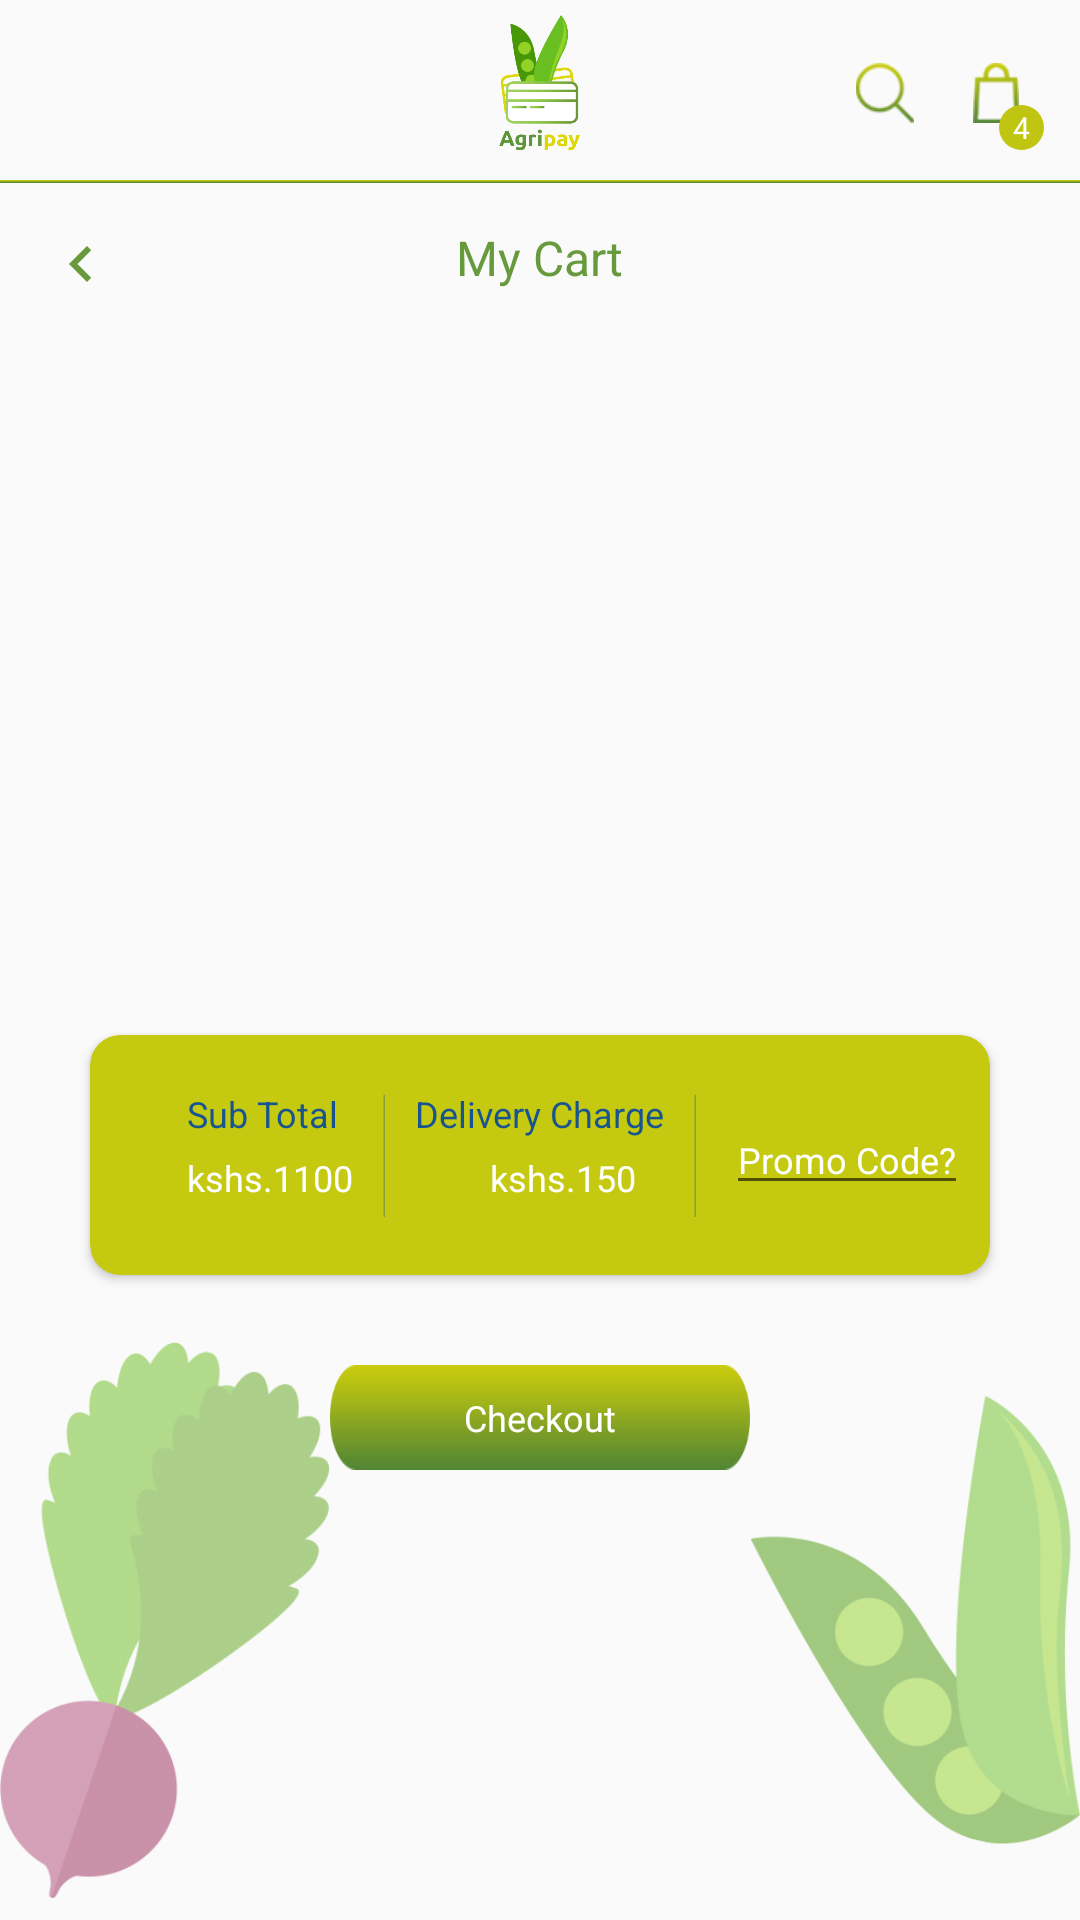

Screen size 1080 x 1920. Icon name, then its box in pixels as (x1, y1, x2, y2):
chevron left: (69, 246, 91, 282)
search: (856, 63, 914, 123)
shop cart: (973, 63, 1026, 123)
